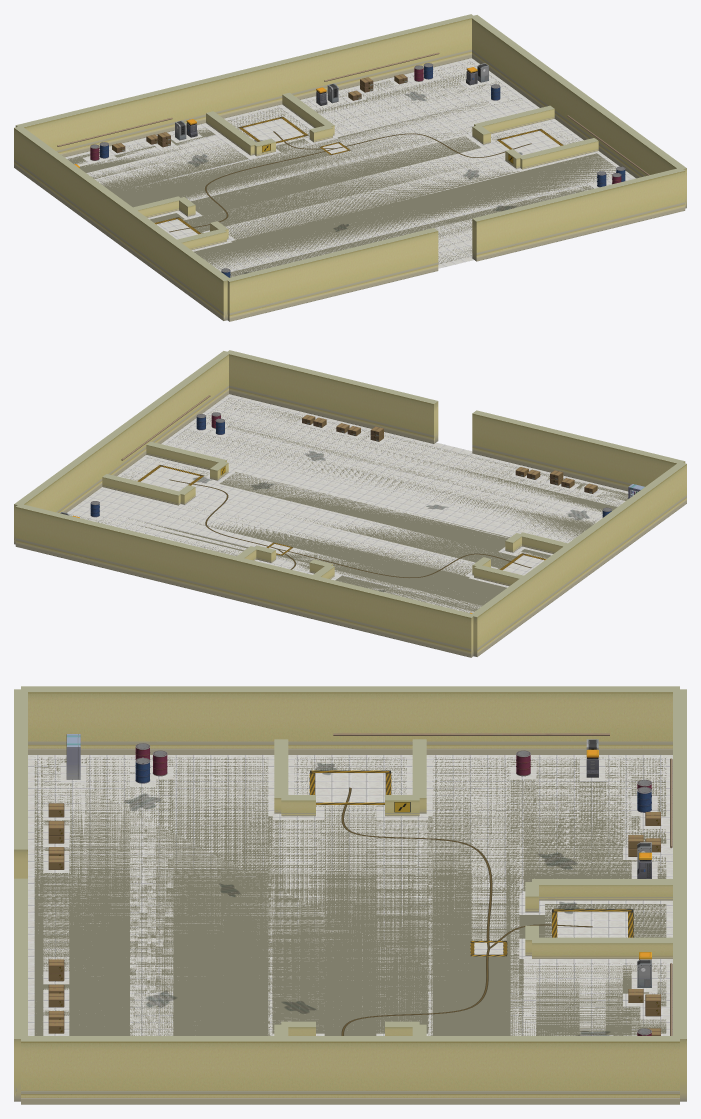
Rendered from r03_arena.glb.
3 views of the same model, one above another, from view 1: azimuth 30°, elevation 25°; view 2: azimuth 150°, elevation 25°; view 3: azimuth 270°, elevation 25° (orthographic). The views are drawn at different scales.
Visible parts, largest first — view 1: Usina_Piso, NAV_andavel, Parede_Norte, Parede_Oeste, Parede_Sul_Leste, Parede_Sul_Oeste, Parede_Leste, Pintura_cabos_faixas_oleo_placas, Decoracao_T_B_002_Combine_15_C, Nicho_L_Sul, Nicho_L_Norte, Nicho_N_Oeste (+7 smaller); view 2: Usina_Piso, NAV_andavel, Parede_Norte, Parede_Oeste, Parede_Sul_Leste, Parede_Leste, Parede_Sul_Oeste, Pintura_cabos_faixas_oleo_placas, Decoracao_T_C_001_CardBoard_01_C, Nicho_L_Norte, Nicho_L_Sul, Decoracao_T_B_002_Combine_15_C (+2 smaller); view 3: NAV_andavel, Usina_Piso, Parede_Leste, Parede_Oeste, Parede_Norte, Pintura_cabos_faixas_oleo_placas, Decoracao_T_C_001_CardBoard_01_C, Nicho_N_Leste, Nicho_N_Oeste, Parede_Sul_Leste, Parede_Sul_Oeste, Decoracao_T_B_002_Combine_15_C (+7 smaller).
Part boxes in pixels (x1,y1,x2,y2): Usina_Piso: (65,58,635,276); NAV_andavel: (67,62,615,277); Parede_Norte: (15,14,474,157); Parede_Oeste: (14,127,229,320); Parede_Sul_Leste: (472,167,685,261); Parede_Sul_Oeste: (226,228,438,321); Parede_Leste: (471,15,686,208); Pintura_cabos_faixas_oleo_placas: (154,92,563,273); Decoracao_T_B_002_Combine_15_C: (90,63,625,277); Nicho_L_Sul: (520,138,598,169); Nicho_L_Norte: (474,105,554,134); Nicho_N_Oeste: (206,111,257,155); Usina_Piso: (67,394,628,612); NAV_andavel: (70,398,628,613); Parede_Norte: (15,503,475,657); Parede_Oeste: (472,463,686,656); Parede_Sul_Leste: (227,350,438,443); Parede_Leste: (14,351,230,544); Parede_Sul_Oeste: (472,410,685,491); Pintura_cabos_faixas_oleo_placas: (137,451,589,591); Decoracao_T_C_001_CardBoard_01_C: (302,415,597,493); Nicho_L_Norte: (102,474,180,505); Nicho_L_Sul: (146,441,226,470); Decoracao_T_B_002_Combine_15_C: (90,412,611,517); NAV_andavel: (34,757,666,1035); Usina_Piso: (28,755,672,1035); Parede_Leste: (21,1036,679,1104); Parede_Oeste: (21,686,679,754); Parede_Norte: (673,689,686,1101); Pintura_cabos_faixas_oleo_placas: (124,763,633,1035); Decoracao_T_C_001_CardBoard_01_C: (48,803,660,1035); Nicho_N_Leste: (532,937,672,958); Nicho_N_Oeste: (532,879,672,900); Parede_Sul_Leste: (14,878,27,1101); Parede_Sul_Oeste: (14,689,27,878); Decoracao_T_B_002_Combine_15_C: (135,743,651,1035).
Bounding box in the file's own units: 48.6 × 4 × 38.9.
Materials: 10 (10 with a texture image).
